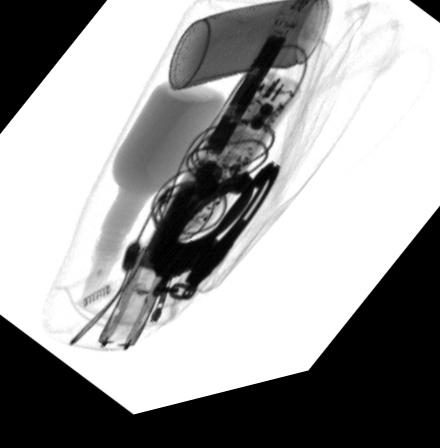Baton: (94, 1, 322, 357)
HandCuffs: (147, 166, 281, 312)
